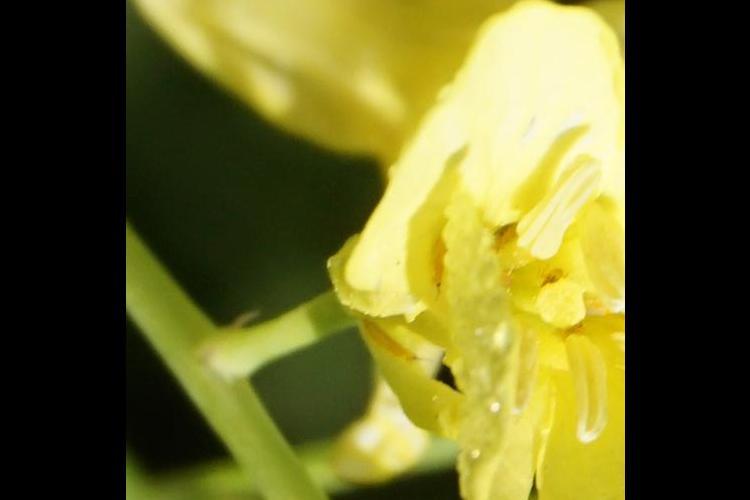yellow: (354, 1, 615, 500), (158, 1, 504, 162)
